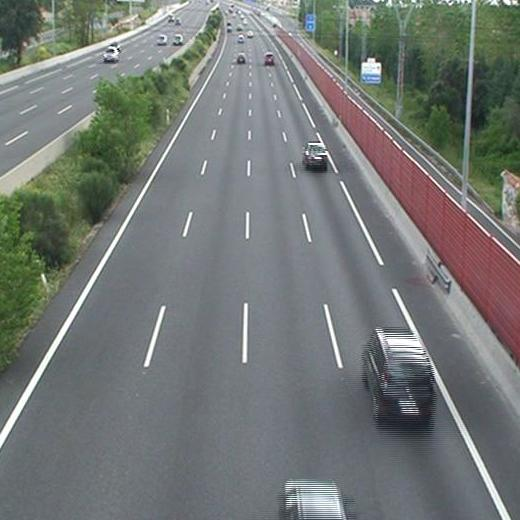car: (363, 331, 434, 419), (303, 143, 327, 166), (264, 53, 274, 63), (237, 53, 245, 63)
